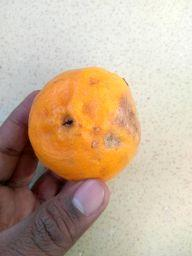Unripe: (28, 67, 141, 180)
